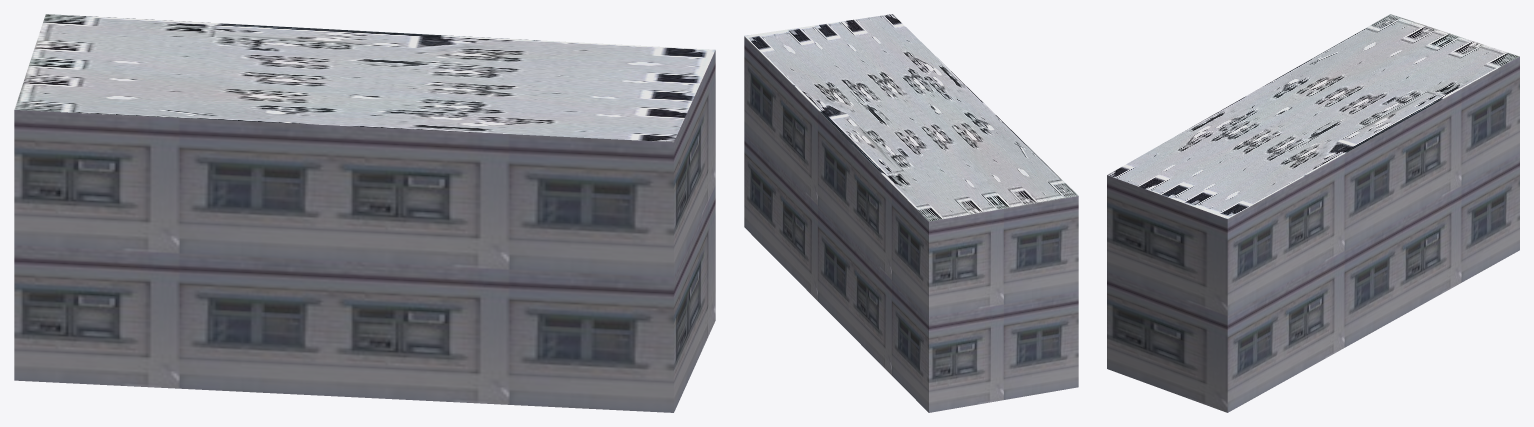
The model's file is ResTex__263.fbx.
The picture shows the model from 3 angles, left to right: view 1: azimuth 30°, elevation 25°; view 2: azimuth 150°, elevation 25°; view 3: azimuth 270°, elevation 25°; orthographic projection. The views are drawn at different scales.
Visible parts, largest first — view 1: CityEngineMaterial_1_m, CityEngineMaterial_8_m; view 2: CityEngineMaterial_1_m, CityEngineMaterial_8_m; view 3: CityEngineMaterial_1_m, CityEngineMaterial_8_m.
Part boxes in pixels (x1,y1,x2,y2): CityEngineMaterial_1_m: (14,50,715,412); CityEngineMaterial_8_m: (14,14,715,142); CityEngineMaterial_1_m: (744,36,1078,412); CityEngineMaterial_8_m: (744,14,1078,221); CityEngineMaterial_1_m: (1107,56,1519,412); CityEngineMaterial_8_m: (1107,14,1519,218).
Size of the model in its own units: 13.63 by 6 by 11.59.
2 materials, 2 textured.
